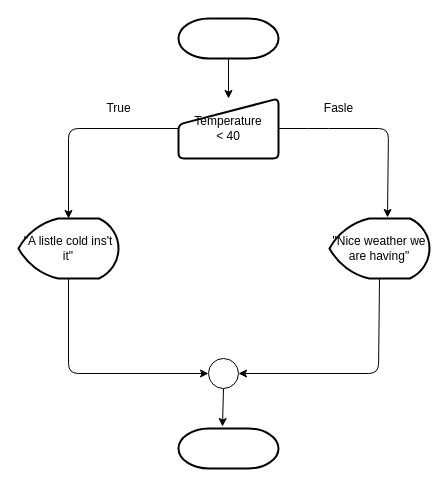
Some shapes in this 447 by 486 pixel diagram are drawn without their labels. Here are the shapes that lost their labels. From the top down, the centre of each, then its label:
[228,38]: Start
[228,448]: End
